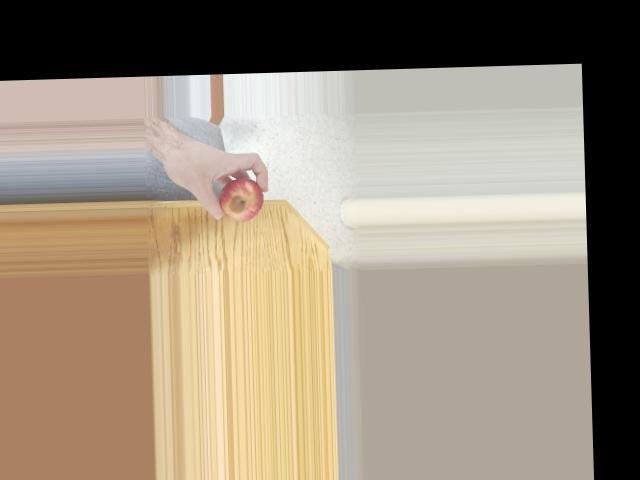apple: (216, 180, 264, 222)
